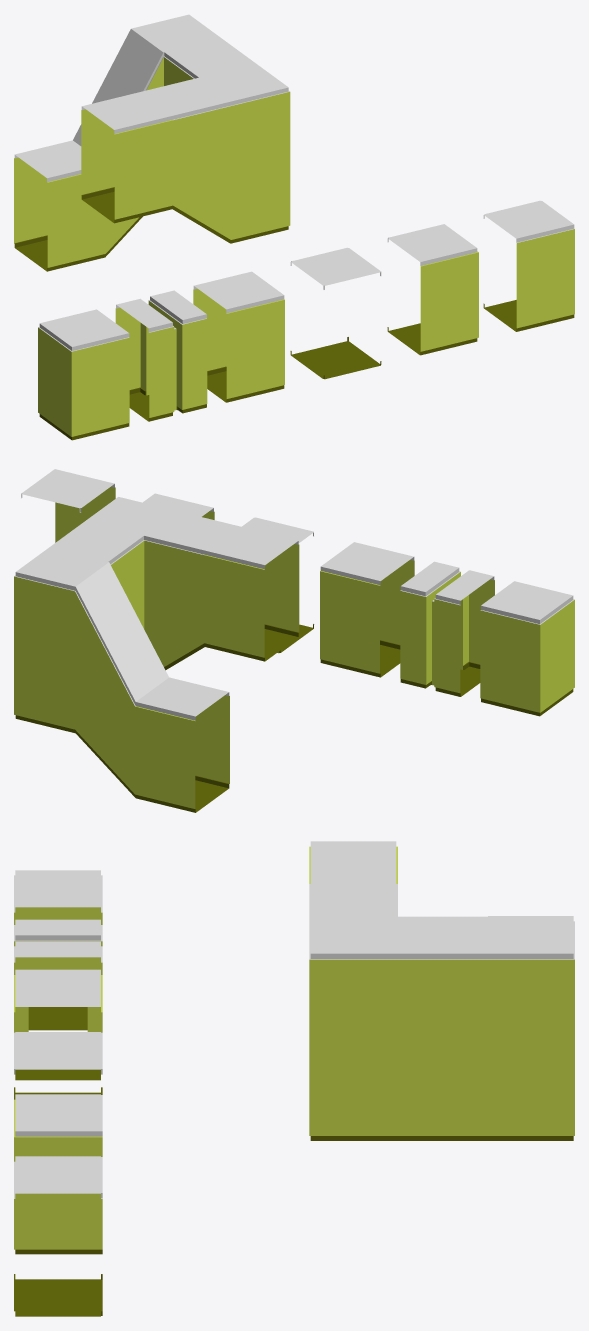
The model's file is maze.glb.
The picture shows the model from 3 angles, top to bottom: view 1: azimuth 30°, elevation 25°; view 2: azimuth 150°, elevation 25°; view 3: azimuth 270°, elevation 25°; orthographic projection. The views are drawn at different scales.
Visible parts, largest first — view 1: maze_stairs-col, maze_I.001-noimp, maze_C-col, maze_H-col, maze_I-col, maze_I.002-noimp, maze_T-col, maze_L-col, maze_X-col; view 2: maze_stairs-col, maze_I.001-noimp, maze_I.002-noimp, maze_C-col, maze_I-col, maze_H-col, maze_T-col, maze_X-col, maze_L-col; view 3: maze_stairs-col, maze_L-col, maze_T-col, maze_C-col, maze_H-col, maze_I-col, maze_X-col, maze_I.001-noimp.
Boxes of the visible parts, bbox=[...] form: maze_stairs-col: bbox=[73, 14, 290, 256]; maze_I.001-noimp: bbox=[81, 92, 172, 223]; maze_C-col: bbox=[38, 309, 129, 440]; maze_H-col: bbox=[115, 290, 207, 421]; maze_I-col: bbox=[193, 271, 284, 402]; maze_I.002-noimp: bbox=[14, 140, 105, 271]; maze_T-col: bbox=[483, 200, 574, 331]; maze_L-col: bbox=[387, 224, 478, 355]; maze_X-col: bbox=[290, 247, 381, 379]; maze_stairs-col: bbox=[14, 497, 237, 797]; maze_I.001-noimp: bbox=[204, 526, 299, 661]; maze_I.002-noimp: bbox=[135, 677, 229, 812]; maze_C-col: bbox=[480, 581, 574, 716]; maze_I-col: bbox=[320, 542, 414, 677]; maze_H-col: bbox=[400, 561, 494, 696]; maze_T-col: bbox=[21, 469, 115, 542]; maze_X-col: bbox=[242, 517, 314, 653]; maze_L-col: bbox=[143, 493, 214, 519]; maze_stairs-col: bbox=[309, 878, 574, 1140]; maze_L-col: bbox=[14, 1094, 102, 1254]; maze_T-col: bbox=[14, 1156, 102, 1316]; maze_C-col: bbox=[14, 870, 102, 1030]; maze_H-col: bbox=[14, 919, 102, 1080]; maze_I-col: bbox=[14, 969, 102, 1099]; maze_X-col: bbox=[14, 1032, 102, 1074]; maze_I.001-noimp: bbox=[309, 841, 397, 883].
Size of the model in its own units: 12.98 by 4.7 by 9.5.
